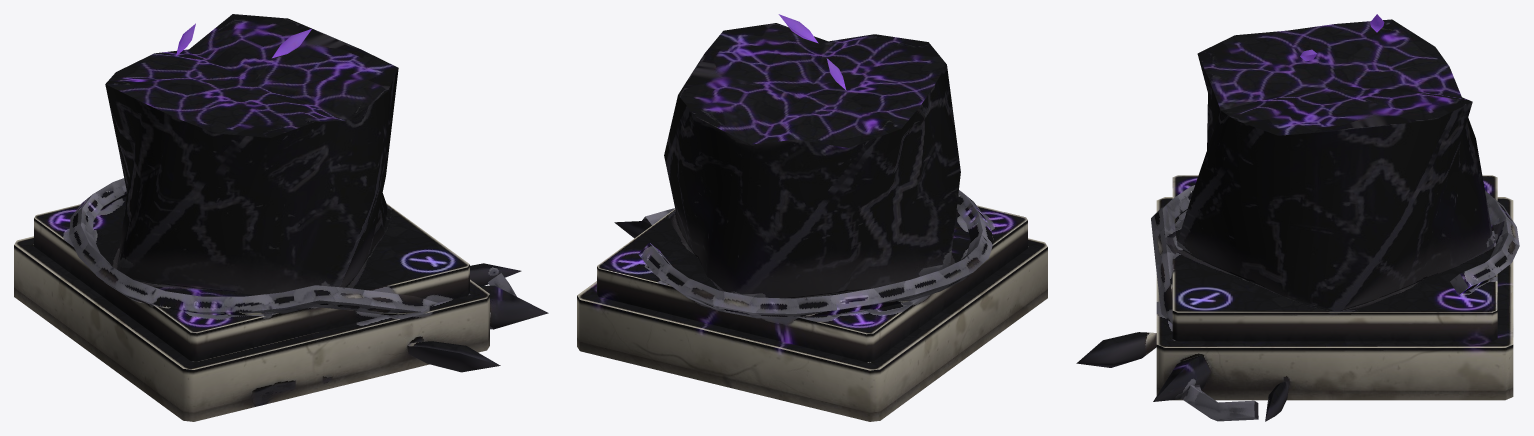
The model's file is abyss_pillar_low.glb.
3 views of the same model, side by side, from view 1: azimuth 30°, elevation 25°; view 2: azimuth 150°, elevation 25°; view 3: azimuth 270°, elevation 25° (orthographic).
Parts seen in each view (by area): view 1: abyss_pillar_low; view 2: abyss_pillar_low; view 3: abyss_pillar_low.
Part boxes in pixels (x1=…): abyss_pillar_low: x1=14, y1=14, x2=548, y2=421; abyss_pillar_low: x1=577, y1=14, x2=1047, y2=421; abyss_pillar_low: x1=1076, y1=14, x2=1519, y2=421.
Size of the model in its own units: 1.75 by 1.24 by 1.69.
Materials: 1 (1 with a texture image).
